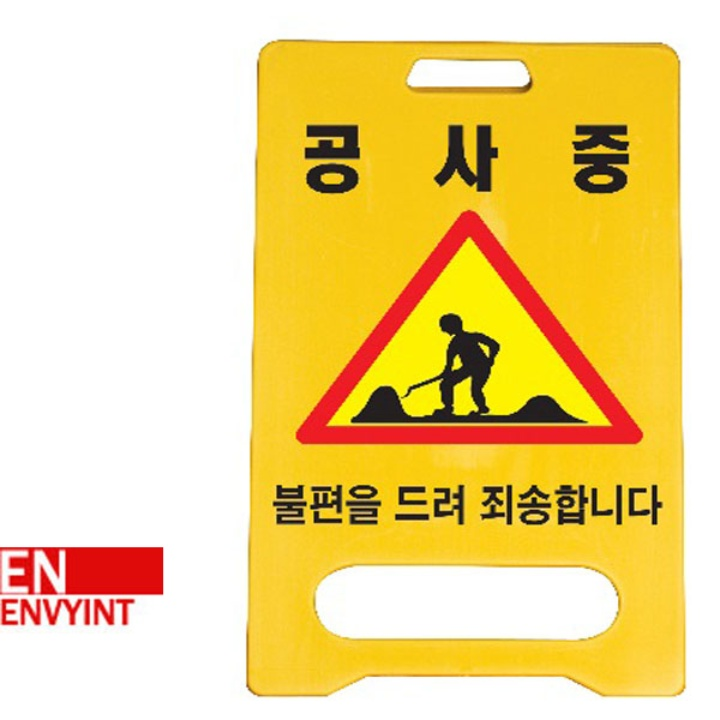const: (350, 310, 579, 423)
